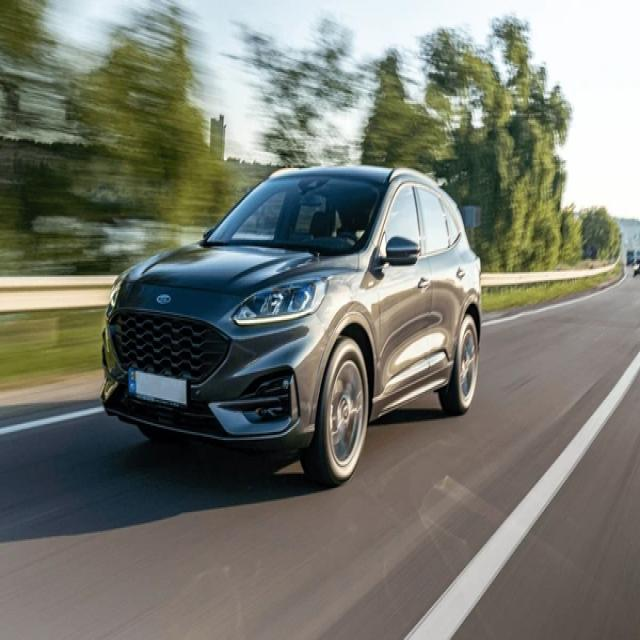ford: (154, 290, 175, 309)
